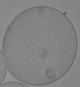small: (45, 67, 55, 78), (38, 48, 48, 58)
